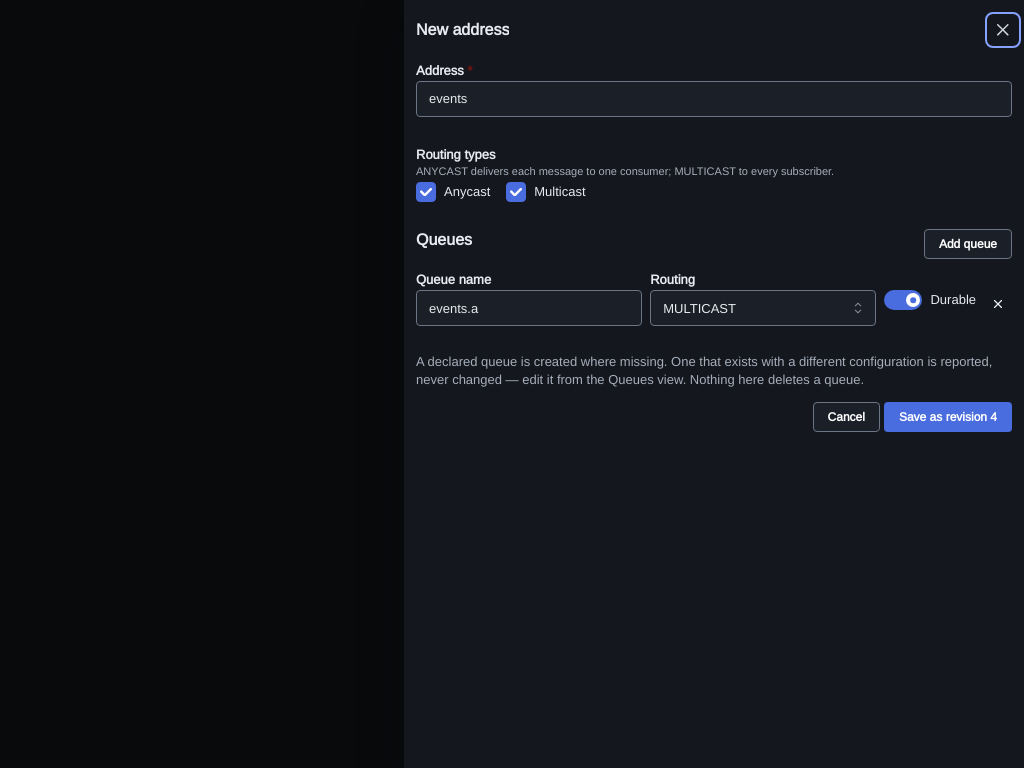
Test: AddressEditor › needs at least one routing type, and a queue named, unique and of a supported type
This screenshot has width=1024, height=768.
expect the field labelled "Address *" holds "events": met, box [416, 81, 1012, 117]
expect the field labelled "Queue name" holds "events.a": met, box [416, 290, 642, 326]
Step 1. Click the checkbox labelled "Multicast" → (516, 192), box [506, 182, 526, 202]
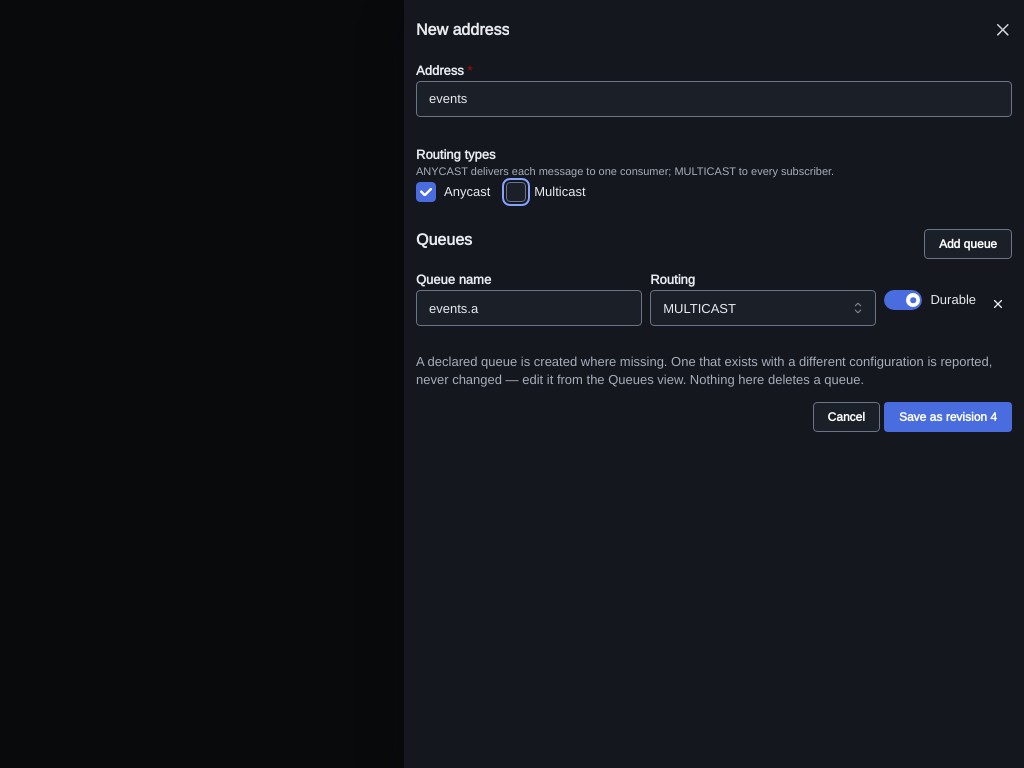
Step 2. Click the button "Save as revision 4" → (948, 417), box [884, 402, 1012, 432]
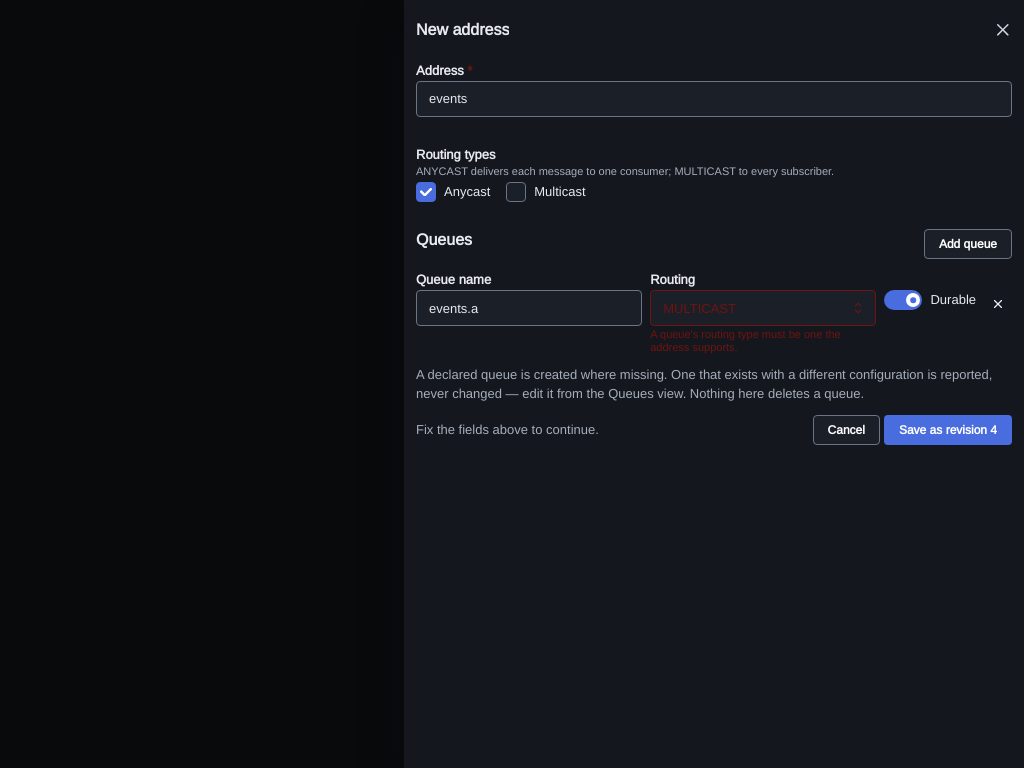
expect the text "A queue's routing type must be one the address supports." is shown: met, box [650, 327, 841, 354]
Step 3. Click the checkbox labelled "Anycast" → (426, 192), box [416, 182, 436, 202]
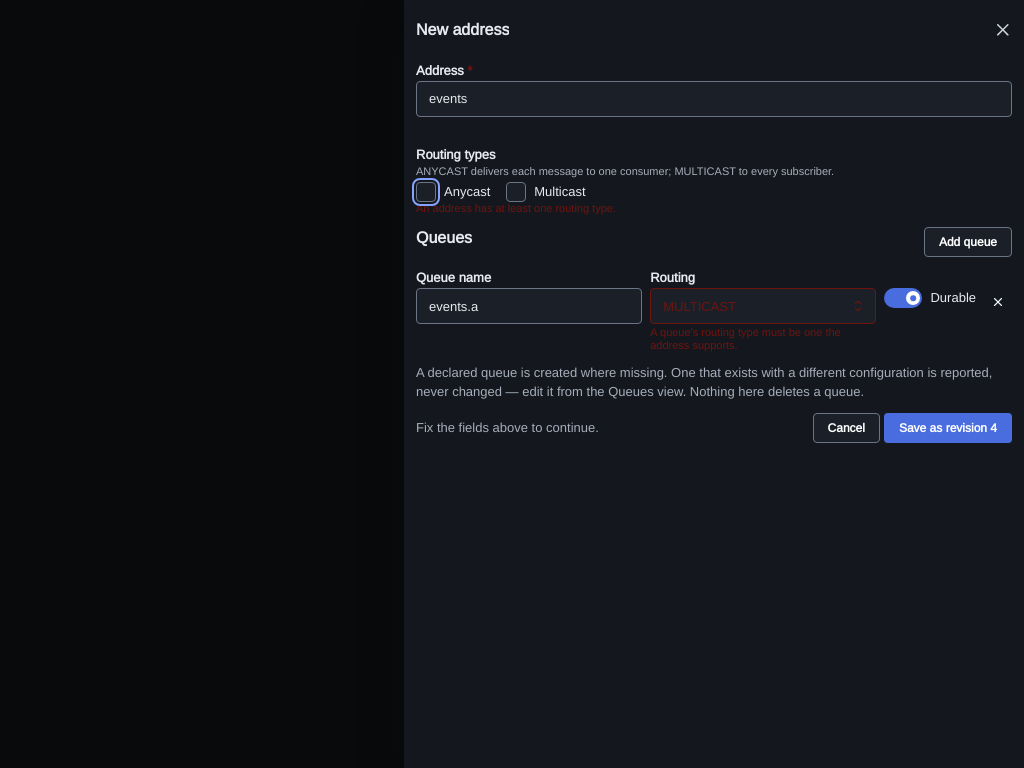
expect the text "An address has at least one routing type." is shown: met, box [416, 201, 616, 215]
Step 4. Click the checkbox labelled "Anycast" → (426, 192), box [416, 182, 436, 202]
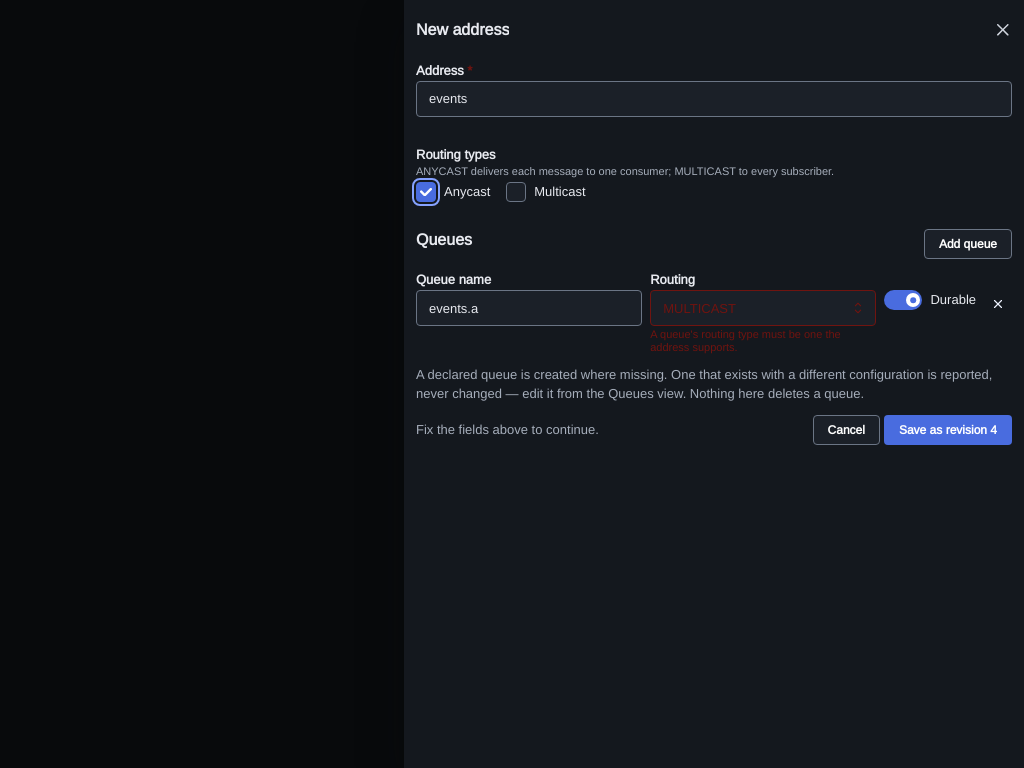
Step 5. Click the button "Add queue" → (968, 244), box [924, 229, 1012, 259]
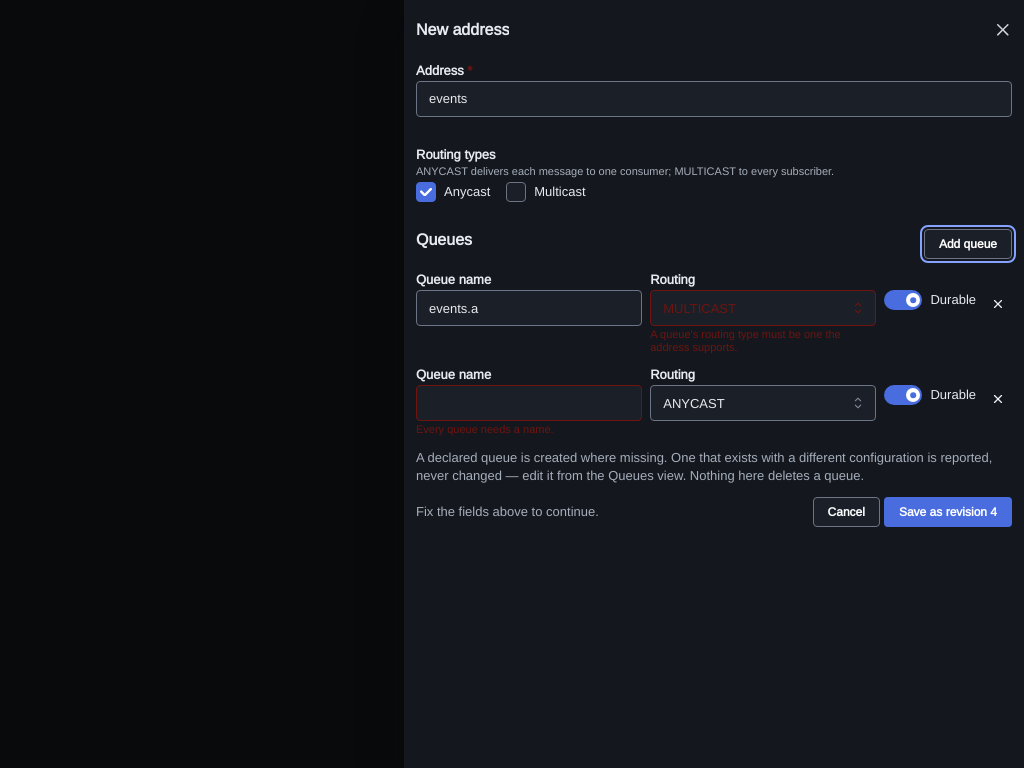
expect the text "Every queue needs a name." is shown: met, box [416, 422, 554, 436]
Step 6. Type "events.a" into the 2nd field labelled "Queue name" → (529, 403), box [416, 385, 642, 421]
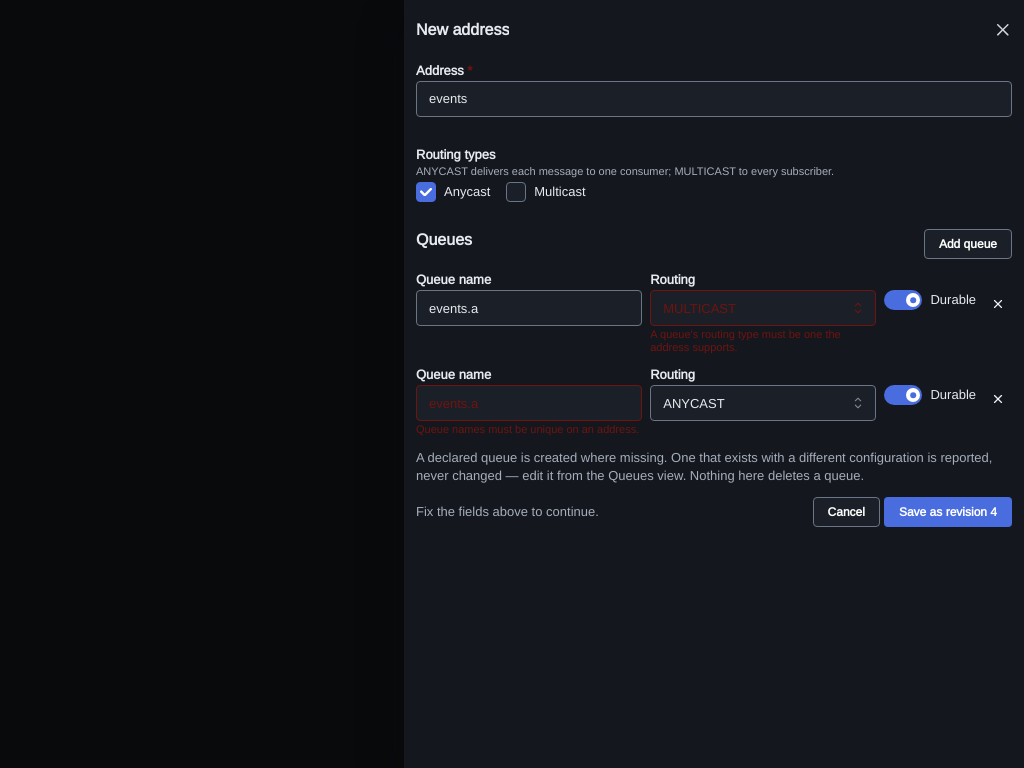
expect the text "Queue names must be unique on an address." is shown: met, box [416, 423, 642, 436]
